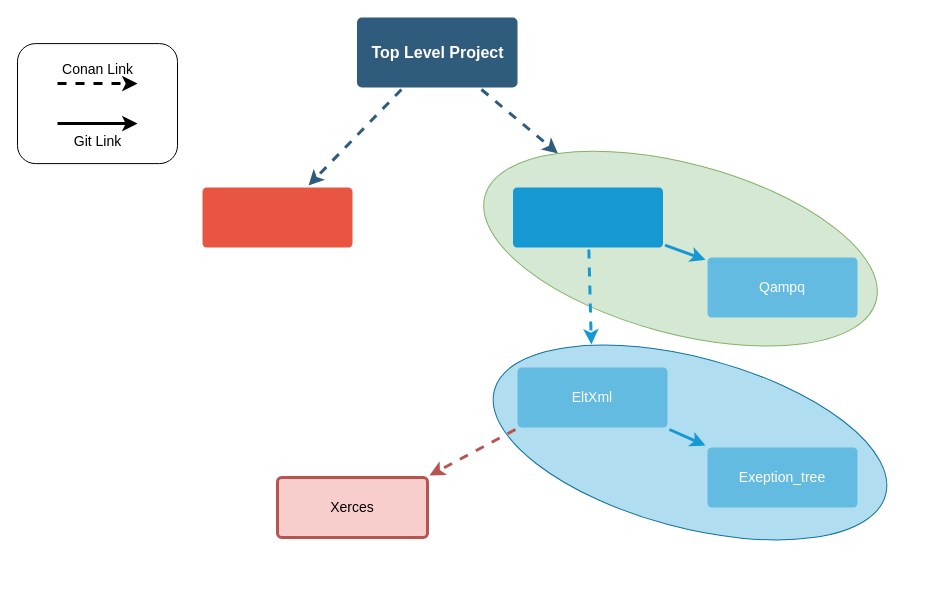
Image size: 926x595. Some labels were removed from this diagram. Here are the shapes that lost their labels. From the top down, the box of each, then its label:
(202, 187, 352, 247): EltRecPlay
(512, 187, 662, 247): EltIpc
